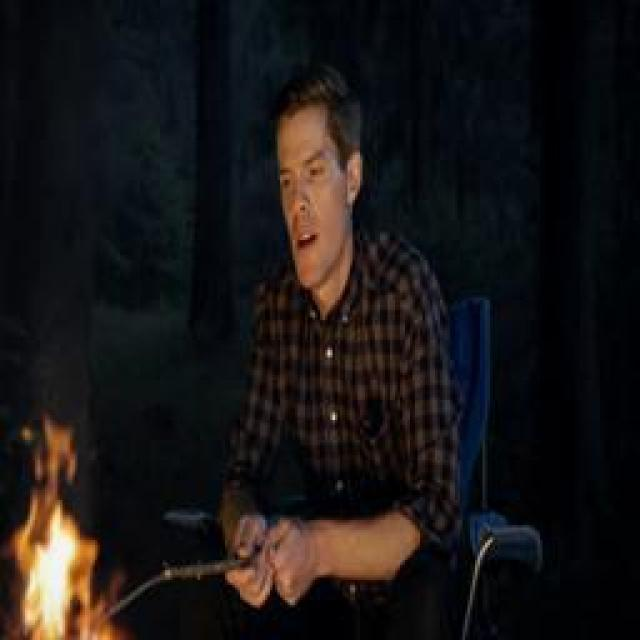Fire: (8, 412, 120, 640)
